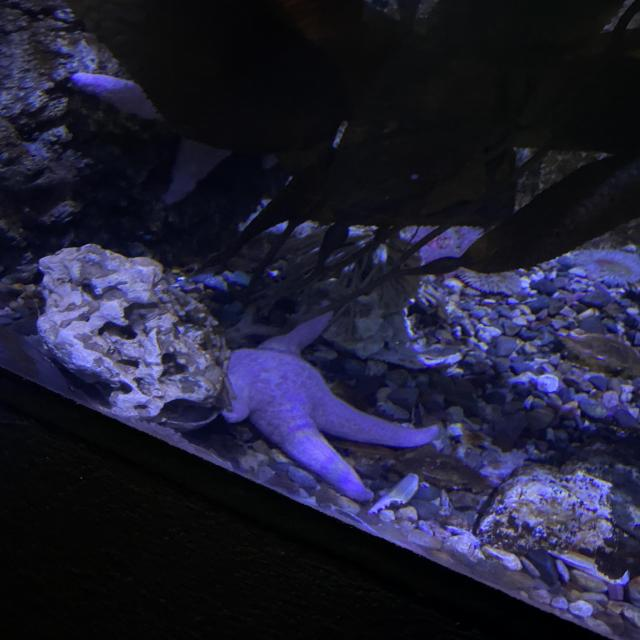starfish: (222, 309, 442, 503)
